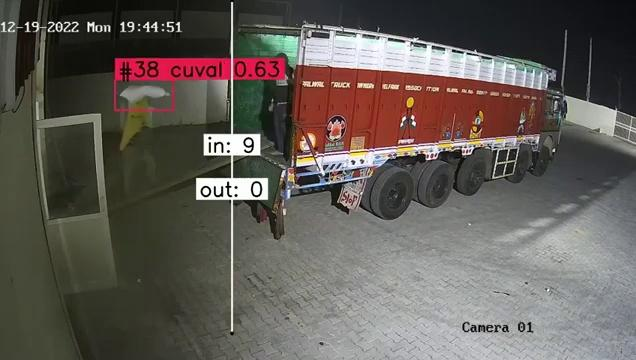karung: (117, 83, 171, 107)
